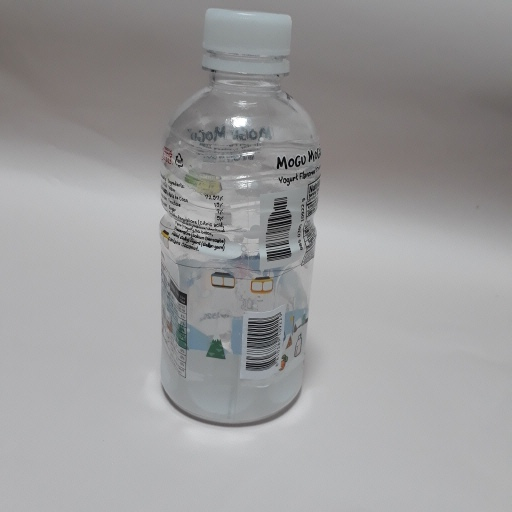Plastic_0: (154, 6, 322, 428)
